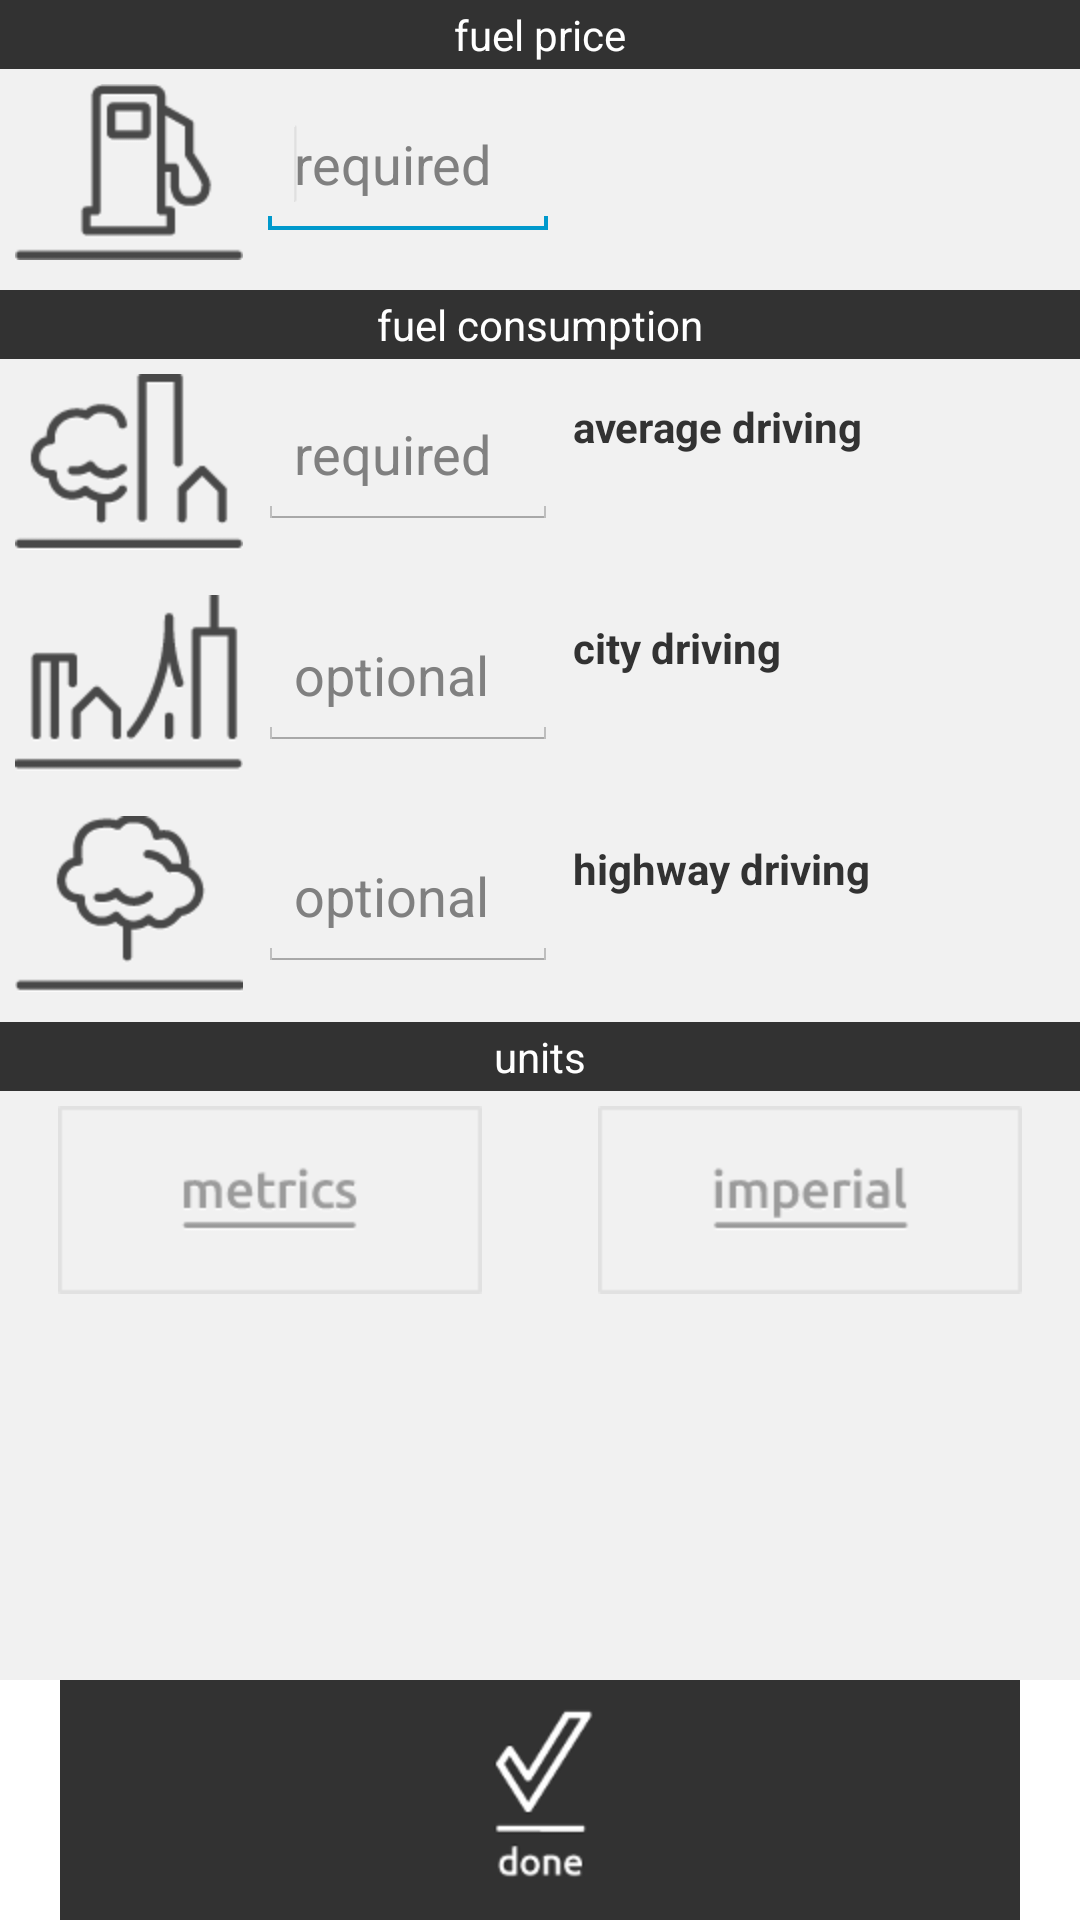

Icon bounding boxes for this 1080px x 1920px phone screenshot, format {"x1": x1, "y1": y1, "x2": x2, "y2": y2}:
settings city: {"x1": 15, "y1": 595, "x2": 243, "y2": 769}
settings mixed: {"x1": 15, "y1": 374, "x2": 243, "y2": 549}
